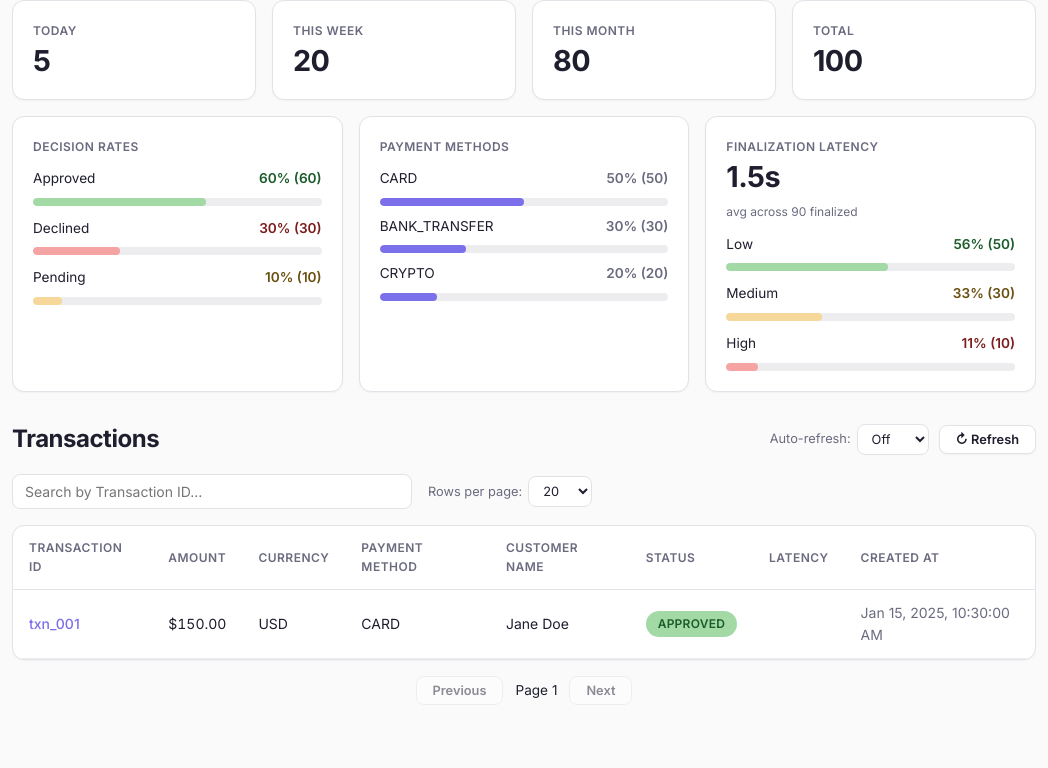
Test: TransactionList › renders refresh button and refreshes data on click
Expected: the link "txn_001" is shown, [29,615,80,632]
Click the button "↻ Refresh".
click(987, 439)  # box [939,425,1036,454]
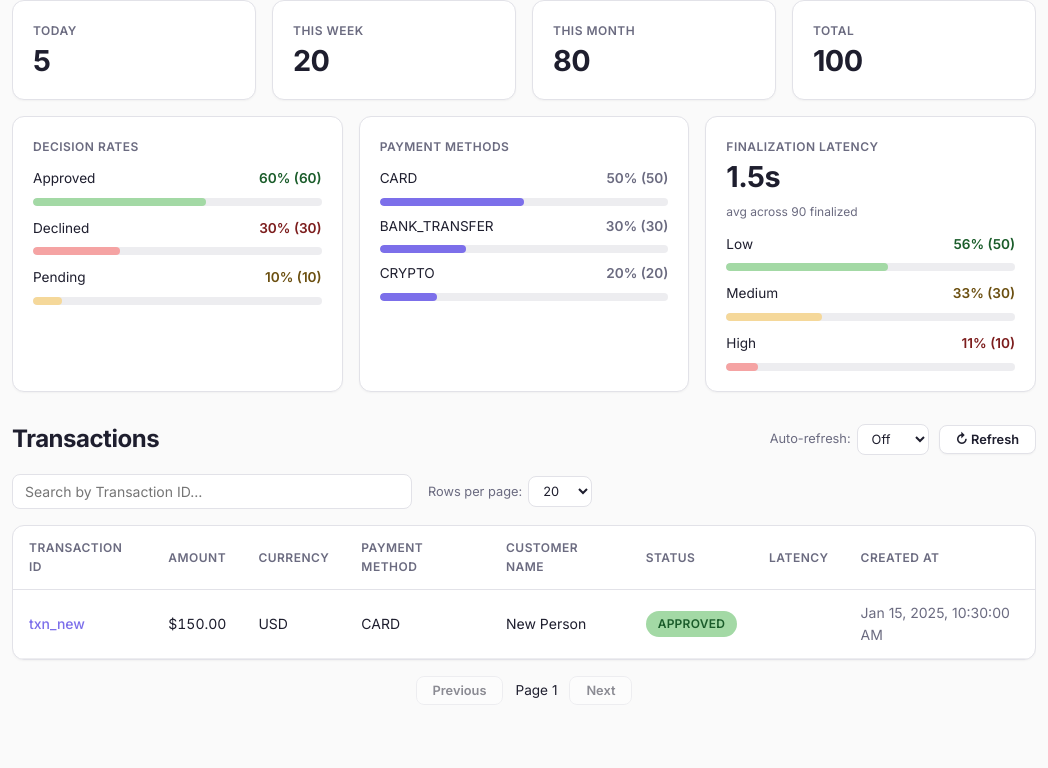
Result: the link "txn_new" is shown at [29,615,85,632]
